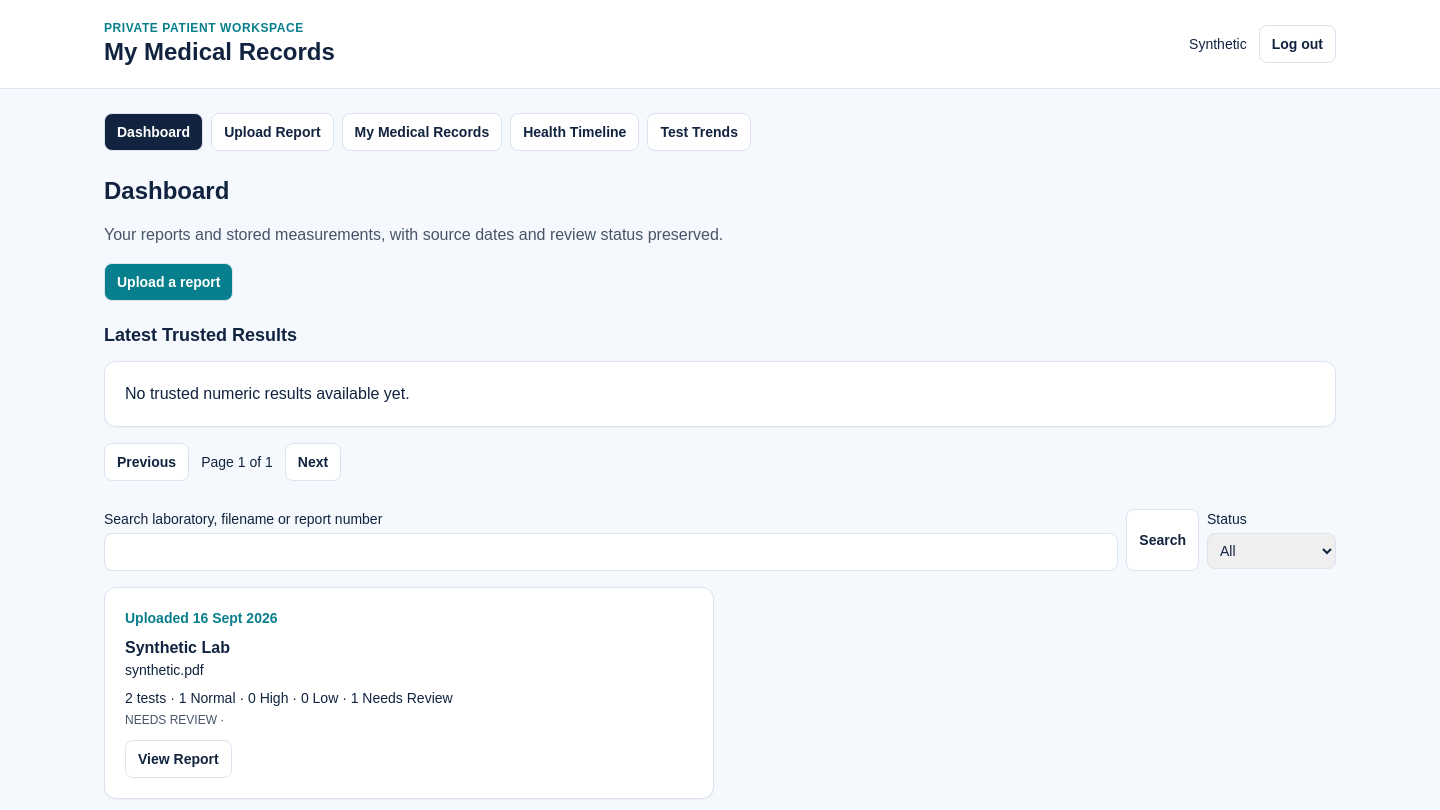
Test: opens persisted qualitative and demographic-review results without staff mutation controls
Click the button "View Report" at (178, 759), box [125,740,232,778]
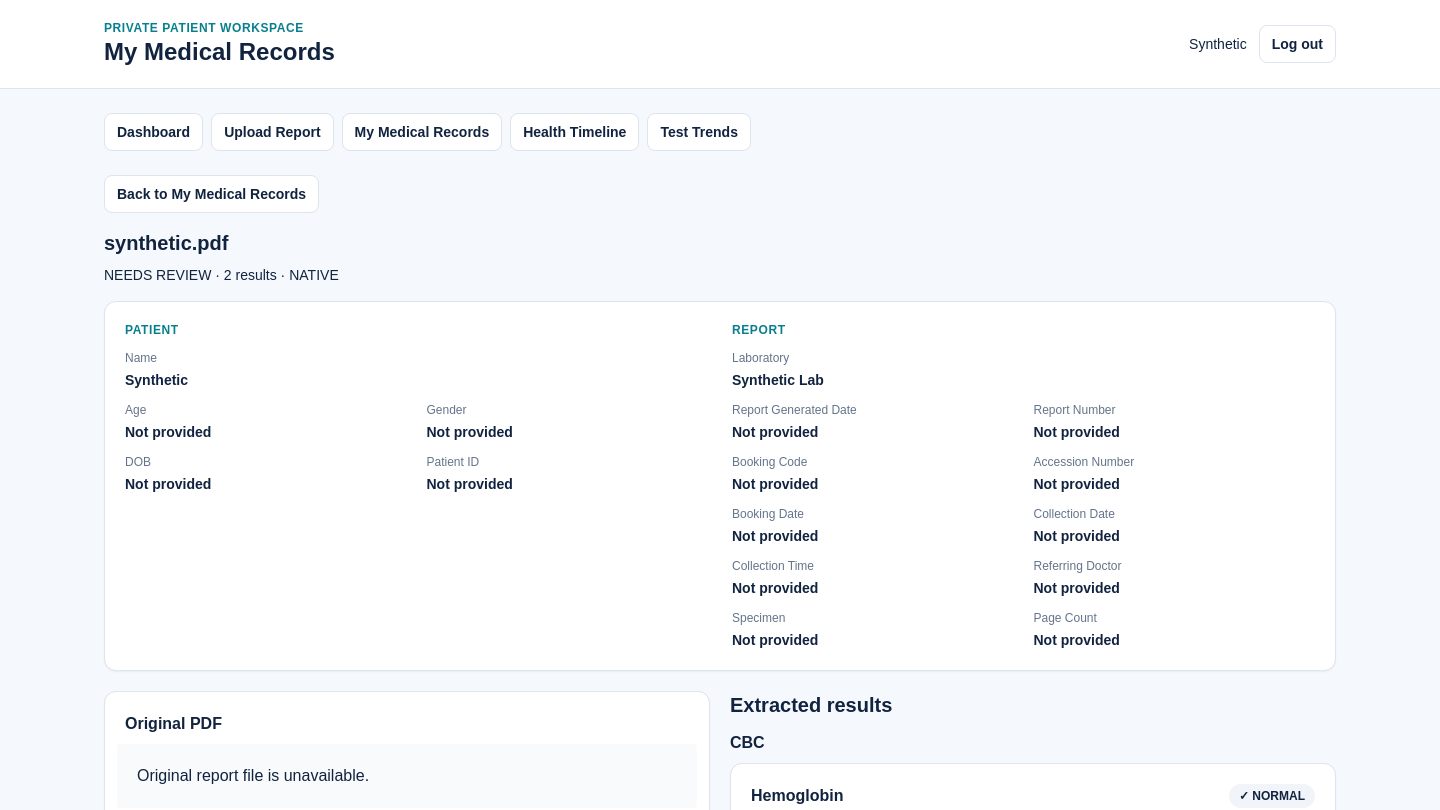
Expected: the text "Synthetic Lab" is shown, [732,372,824,388]
Now the text "✓ NORMAL" is shown, box [1229,784,1315,808]
Now the text "Original report file is unavailable." is shown, box [117,744,697,808]
